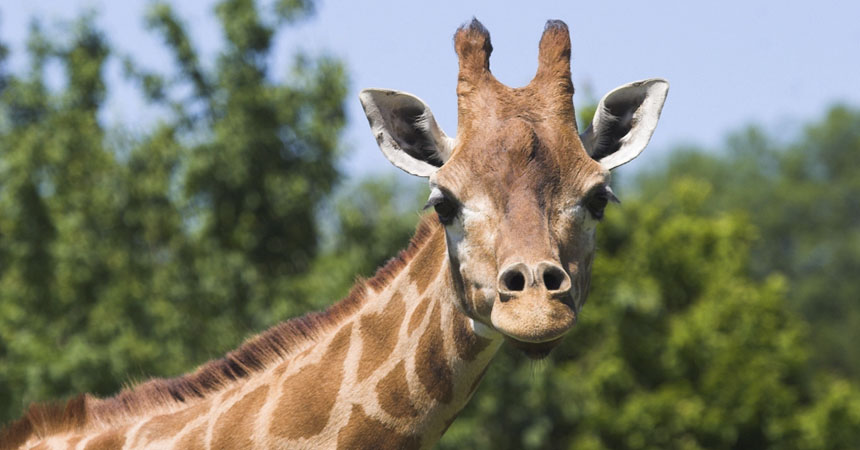Jirafa: (236, 14, 731, 422)
